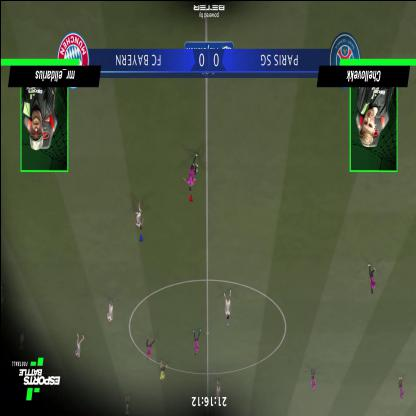ball: (194, 166, 198, 172)
